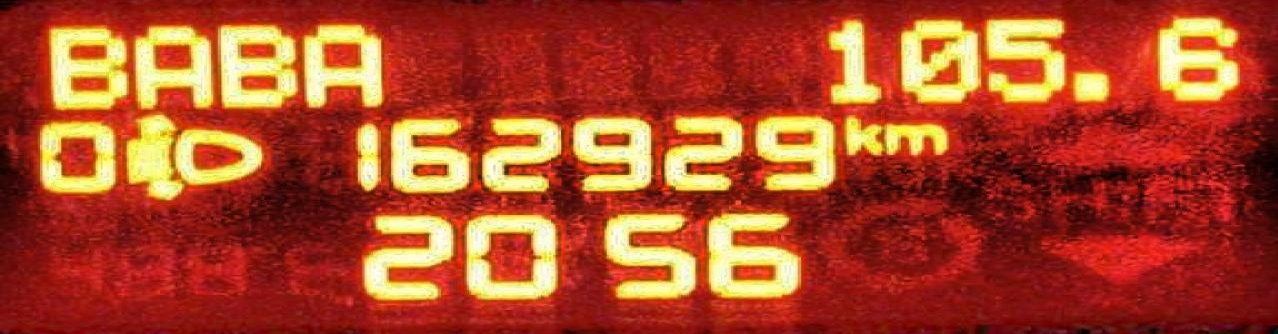-: (1066, 68, 1122, 106)
0: (460, 212, 558, 299), (897, 16, 982, 103), (33, 119, 117, 195)
1: (822, 13, 884, 106), (351, 119, 382, 195)
2: (355, 211, 453, 301), (477, 112, 562, 195), (660, 113, 749, 192)
5: (602, 210, 697, 297), (980, 14, 1066, 105)
6: (704, 210, 802, 299), (1153, 15, 1237, 101), (386, 115, 473, 195)
9: (564, 111, 655, 191), (751, 112, 835, 192)
X: (42, 21, 128, 111), (302, 21, 386, 108), (131, 21, 213, 108), (213, 21, 293, 107), (882, 120, 948, 156), (840, 111, 880, 155)
